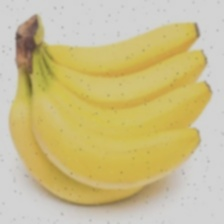banana: (0, 44, 180, 223)
